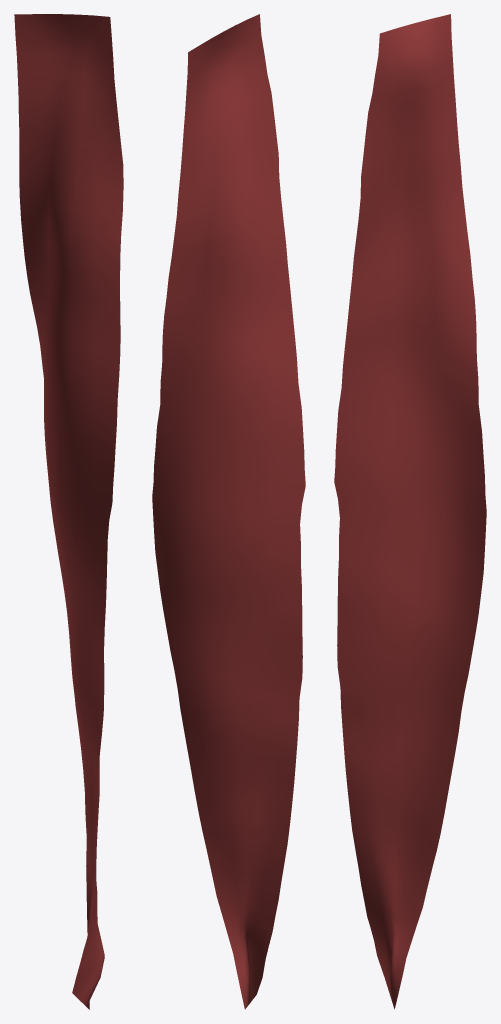
The model's file is lateral-femoral-intermuscular-septum-l.glb.
3 views of the same model, side by side, from view 1: azimuth 90°, elevation 25°; view 2: azimuth 150°, elevation 25°; view 3: azimuth 330°, elevation 25° (orthographic).
Parts seen in each view (by area): view 1: Lateral femoral intermuscular septum.l; view 2: Lateral femoral intermuscular septum.l; view 3: Lateral femoral intermuscular septum.l.
Boxes of the visible parts, left/top/right/bottom form: Lateral femoral intermuscular septum.l: left=14, top=14, right=123, bottom=1009; Lateral femoral intermuscular septum.l: left=152, top=14, right=305, bottom=1009; Lateral femoral intermuscular septum.l: left=334, top=14, right=486, bottom=1009.
Bounding box in the file's own units: 0.0359 × 0.2674 × 0.0266.
